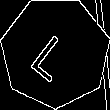L_NE: (28, 23, 82, 82)
